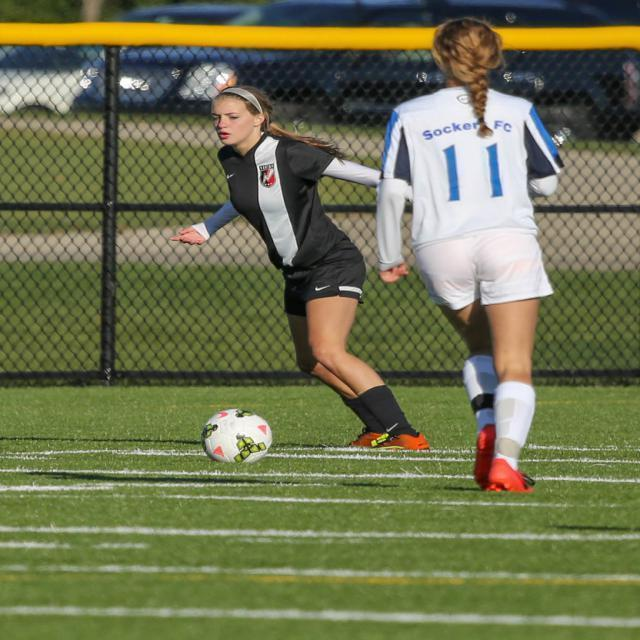ball: (202, 407, 272, 464)
